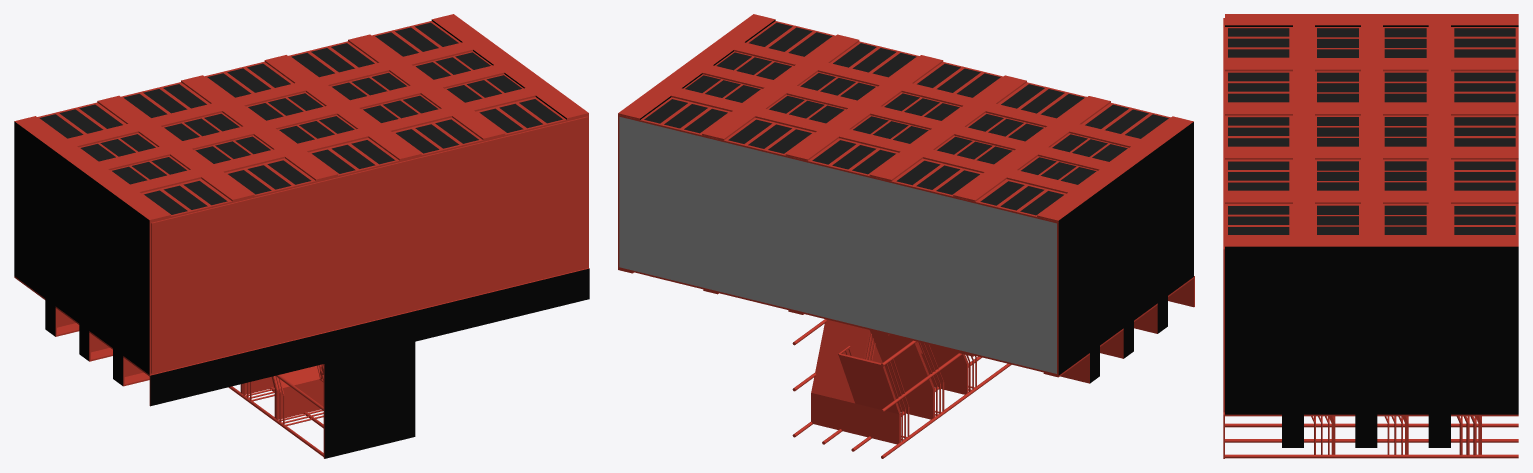
File: Edificio D.fbx
3 renders of one model, left to right at view 1: azimuth 30°, elevation 25°; view 2: azimuth 150°, elevation 25°; view 3: azimuth 270°, elevation 25°, orthographic. The views are drawn at different scales.
Visible parts, largest first — view 1: Body25; view 2: Body25, Body43; view 3: Body25.
Part boxes in pixels (bbox=[...]): Body25: bbox=[14, 14, 589, 458]; Body25: bbox=[618, 14, 1194, 458]; Body43: bbox=[619, 116, 1056, 373]; Body25: bbox=[1223, 14, 1518, 458].
Bounding box in the file's own units: 30 × 18.31 × 16.1.
